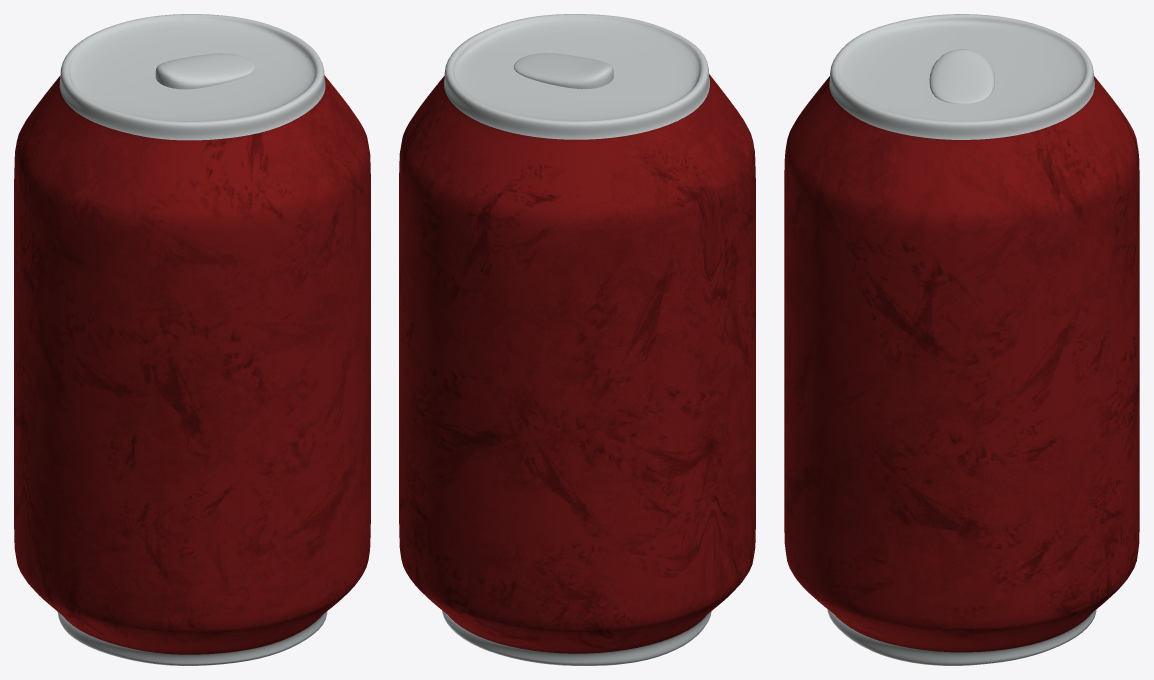
File: Trash_Can_Final(Smoothed).fbx
3 views of the same model, side by side, from view 1: azimuth 30°, elevation 25°; view 2: azimuth 150°, elevation 25°; view 3: azimuth 270°, elevation 25° (orthographic).
Visible parts, largest first — view 1: drink_004; view 2: drink_004; view 3: drink_004.
Part boxes in pixels (x1,y1,x2,y2): drink_004: (14, 14, 370, 665); drink_004: (399, 14, 755, 665); drink_004: (784, 14, 1139, 665).
Size of the model in its own units: 6.9 by 11.76 by 6.89.
Materials: 2 (2 with a texture image).
